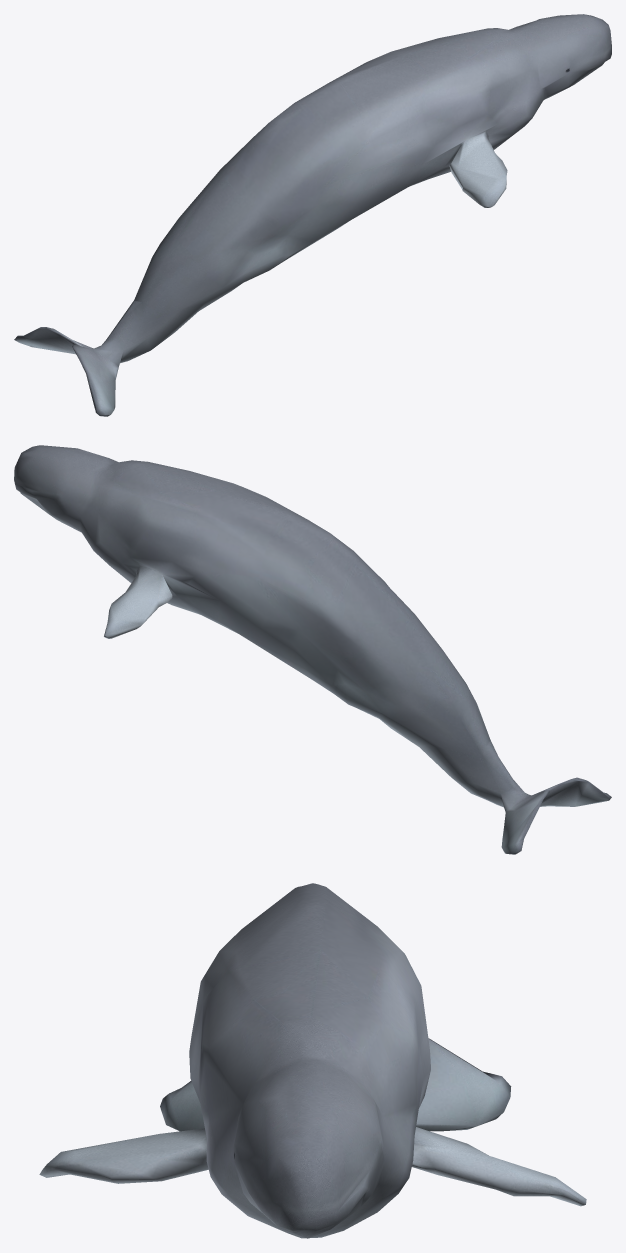
Rendered from beluga.fbx.
The picture shows the model from 3 angles, top to bottom: view 1: azimuth 30°, elevation 25°; view 2: azimuth 150°, elevation 25°; view 3: azimuth 270°, elevation 25°; orthographic projection. The views are drawn at different scales.
Visible parts, largest first — view 1: beluga; view 2: beluga; view 3: beluga.
Part boxes in pixels (<box>): beluga: <box>14,14,611,416</box>; beluga: <box>14,445,611,854</box>; beluga: <box>39,883,586,1238</box>.
Bounding box in the file's own units: 4 × 1.79 × 1.72.
1 material, 1 textured.
